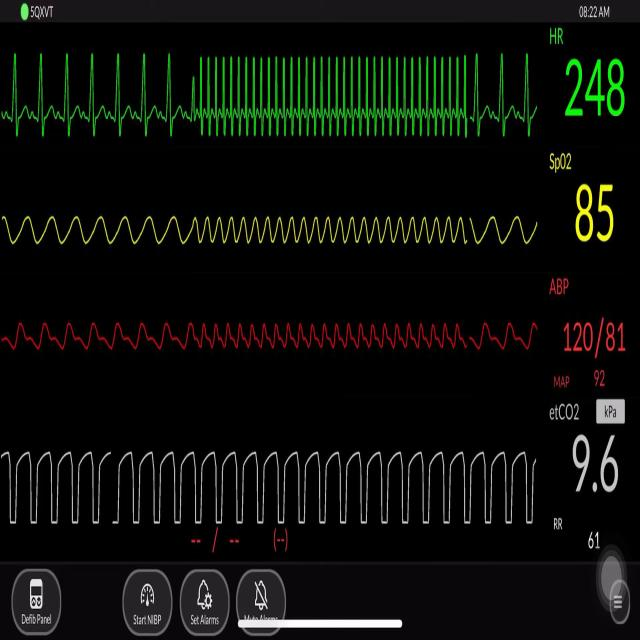danger: (188, 32, 485, 152)
